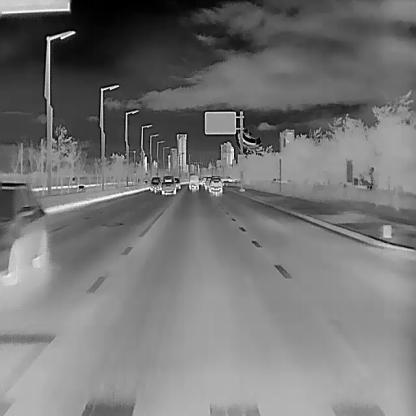car: (1, 180, 46, 286), (160, 175, 175, 195), (208, 177, 222, 192), (149, 175, 160, 191), (188, 175, 198, 190), (202, 176, 212, 188), (172, 176, 180, 190)
